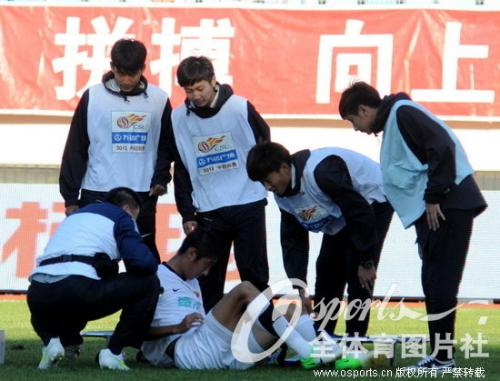fall: (130, 218, 322, 375)
